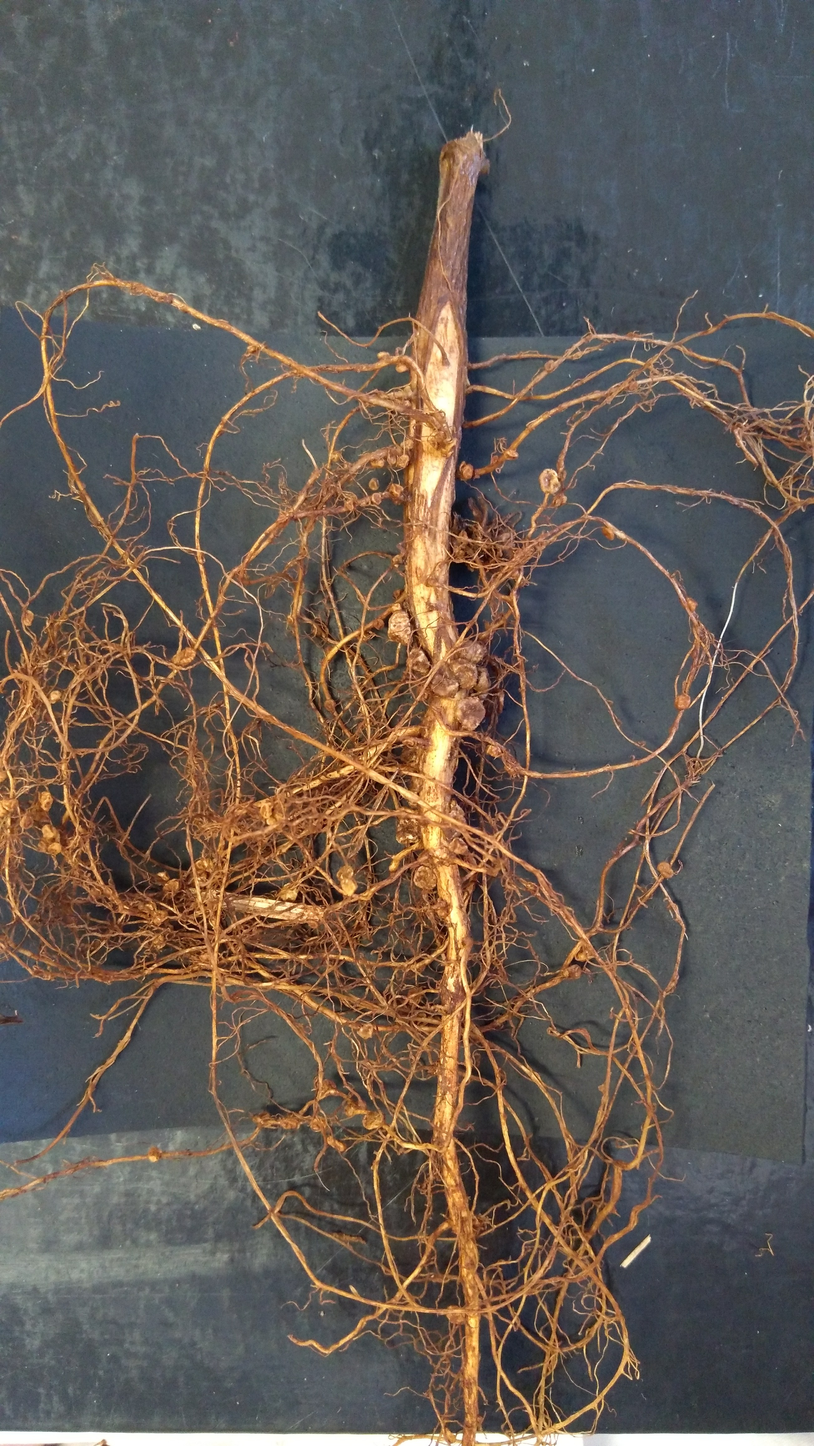nodule: (454, 694, 488, 732), (445, 657, 480, 692), (385, 607, 414, 645), (456, 636, 491, 666), (429, 671, 462, 701), (405, 647, 437, 677), (395, 813, 423, 846), (334, 864, 360, 898), (411, 861, 441, 890), (537, 466, 562, 495), (278, 881, 306, 906), (360, 1109, 390, 1131), (159, 879, 184, 903), (444, 835, 471, 857), (404, 984, 425, 1012), (475, 666, 493, 698), (313, 1074, 338, 1097), (444, 1302, 467, 1326), (277, 1111, 302, 1133), (188, 867, 211, 890), (172, 646, 198, 666), (655, 859, 677, 882), (37, 789, 56, 814), (148, 908, 174, 926), (599, 523, 618, 547), (449, 801, 467, 826), (386, 480, 407, 501), (150, 930, 170, 952), (356, 1021, 375, 1044), (306, 1116, 329, 1135), (340, 1098, 362, 1117), (326, 1134, 347, 1153), (0, 795, 21, 814), (673, 692, 692, 713), (498, 531, 519, 550), (561, 964, 584, 981), (135, 899, 159, 915), (427, 430, 447, 449), (485, 742, 506, 760), (458, 460, 475, 482), (144, 1144, 163, 1163), (44, 841, 66, 857), (250, 1110, 272, 1126), (194, 858, 217, 873), (206, 915, 226, 932), (203, 895, 222, 912), (19, 810, 35, 830), (39, 823, 59, 839), (322, 697, 340, 714), (395, 452, 412, 469), (367, 490, 385, 506), (551, 493, 570, 508), (22, 608, 36, 628), (573, 947, 590, 963), (258, 802, 274, 819), (34, 838, 51, 854), (684, 596, 700, 613), (368, 617, 386, 632), (452, 545, 467, 563), (443, 1427, 458, 1445), (48, 689, 64, 705), (153, 868, 171, 882), (376, 350, 394, 363), (198, 950, 213, 965), (368, 454, 384, 468), (454, 529, 470, 543), (468, 1313, 481, 1330), (402, 386, 416, 401), (389, 588, 405, 601), (394, 362, 411, 374), (367, 477, 381, 491), (506, 447, 520, 461), (399, 438, 415, 450), (385, 453, 398, 465), (389, 601, 403, 612), (59, 648, 72, 659), (406, 798, 419, 808), (509, 569, 521, 579), (265, 817, 278, 826), (401, 400, 413, 408), (188, 888, 200, 895), (596, 1083, 605, 1092)
